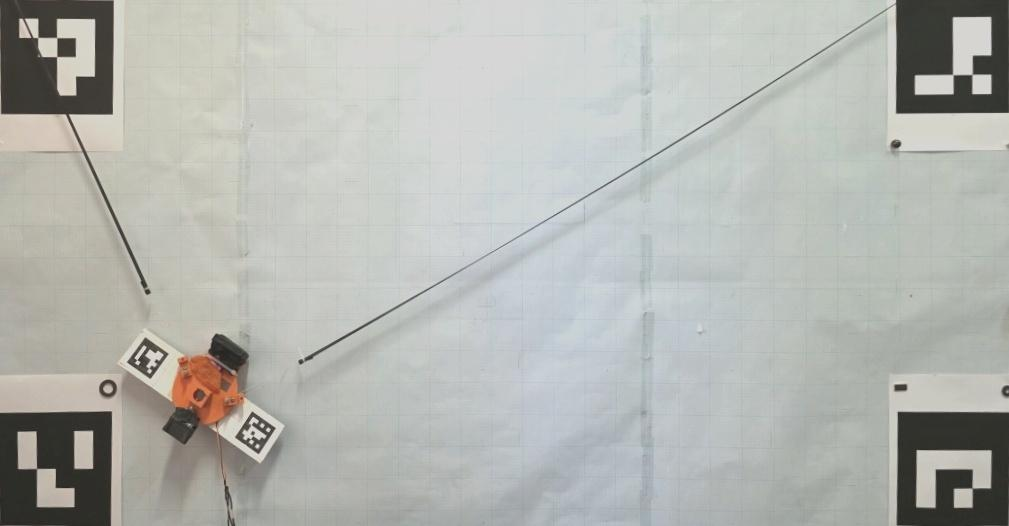robot: (164, 334, 246, 444)
